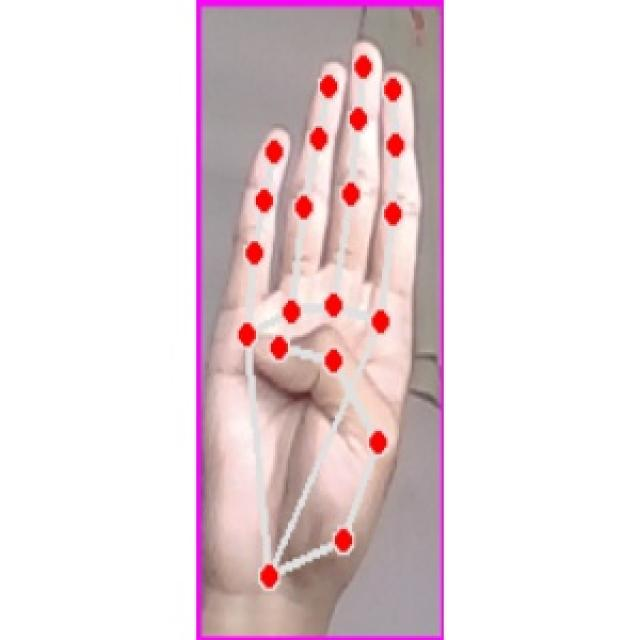B: (208, 27, 425, 607)
